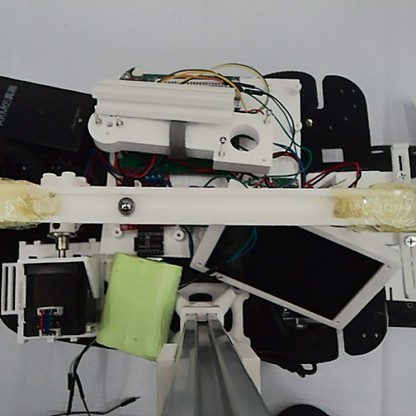ironball: (114, 194, 135, 215)
